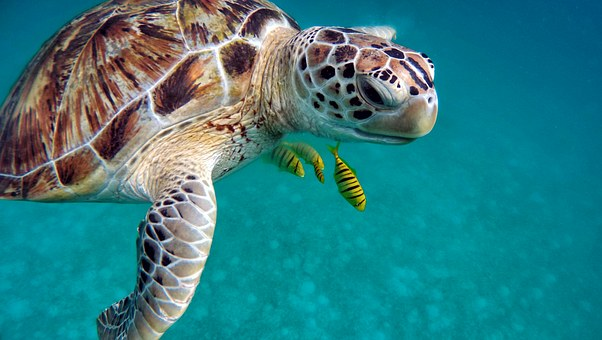fish: (329, 139, 371, 217), (266, 146, 308, 181), (290, 139, 330, 171), (309, 159, 326, 186)
trutle: (9, 1, 470, 330)
